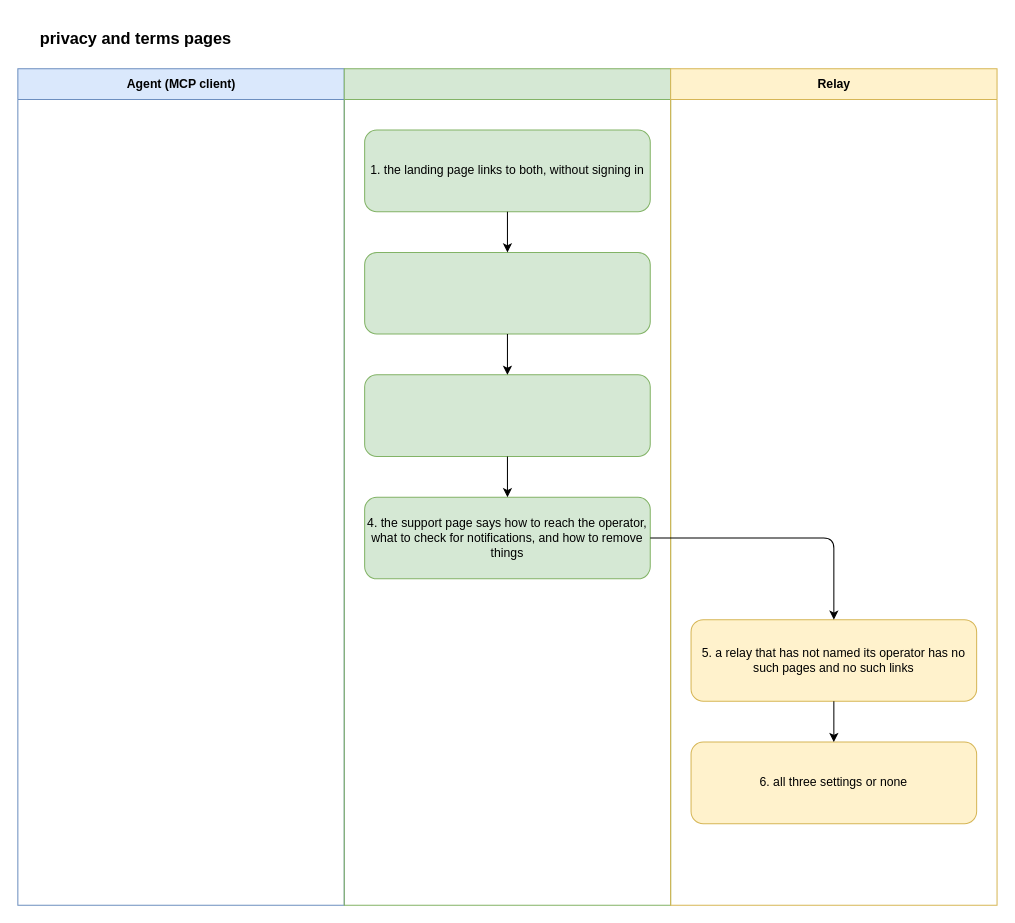
The diagram is 1015 pixels wide and 923 high, and some of its shapes have lost their labels. The box of each missing label's shape, as (x1, y1, x2, y2) in pixels:
2. the privacy page names the operator, escaped, and what it must say plainly: (364, 251, 650, 334)
3. the terms page says it is free and as it is: (364, 374, 650, 456)
Person (browser): (343, 68, 671, 905)
